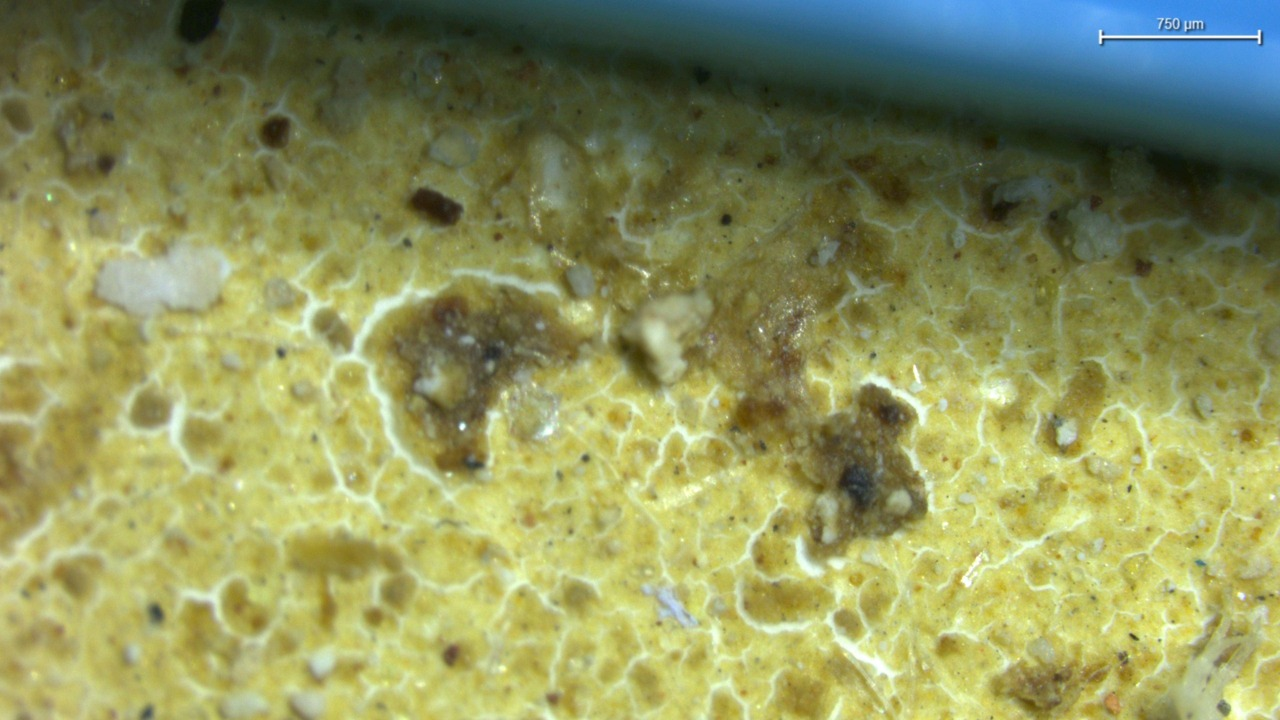microplastic_fragment: (95, 243, 230, 315), (621, 290, 713, 385)
